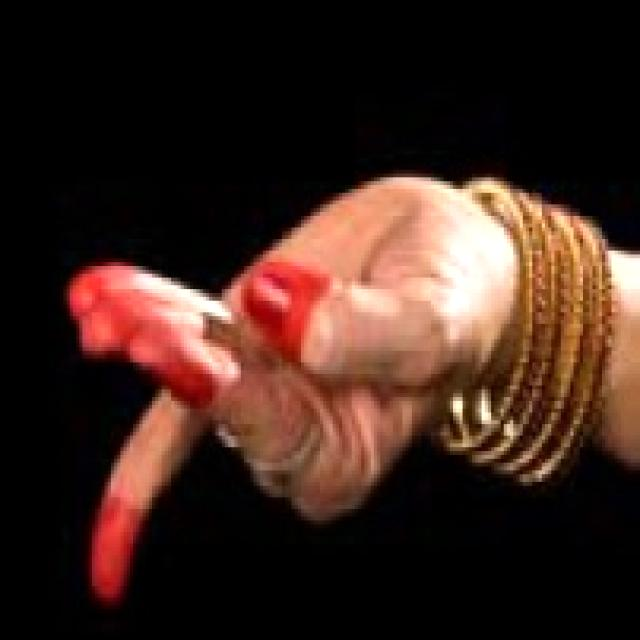Chatura: (50, 101, 518, 625)
